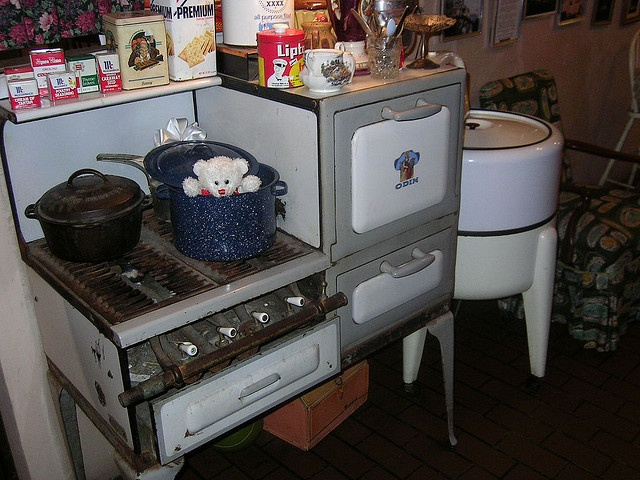cup: (306, 48, 640, 145), (334, 40, 640, 114), (365, 34, 640, 113)
